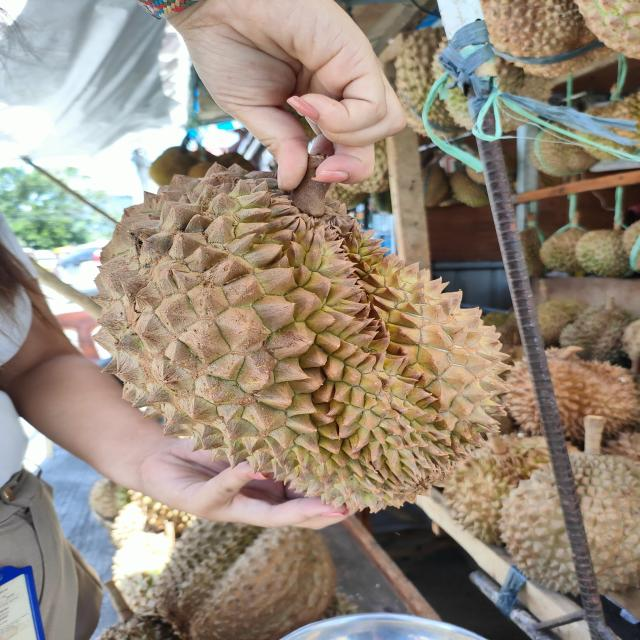mature: (90, 195, 512, 512)
